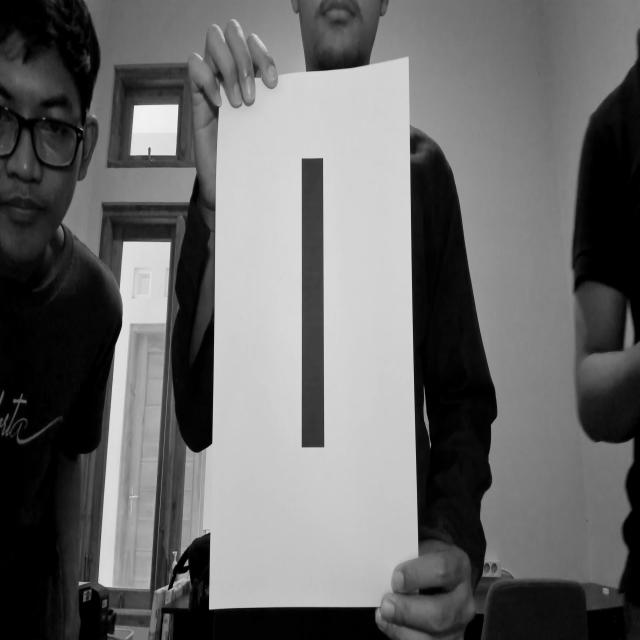i: (290, 148, 338, 476)
